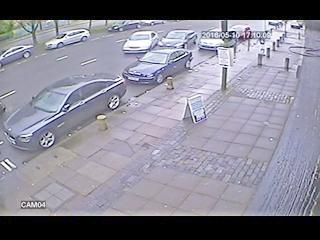Car: (5, 76, 124, 150), (130, 48, 193, 84), (45, 29, 90, 49), (122, 30, 159, 54), (0, 45, 33, 68), (160, 29, 197, 49), (198, 30, 226, 52), (108, 20, 141, 32), (229, 24, 251, 40), (141, 20, 158, 25)
Not Accident: (122, 29, 194, 85), (0, 26, 89, 68), (269, 19, 302, 31)
